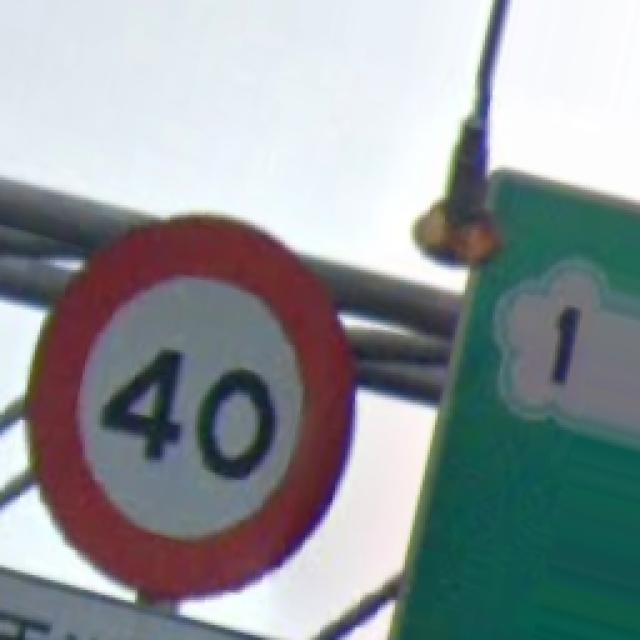Speed Limit -40-: (30, 218, 350, 598)
